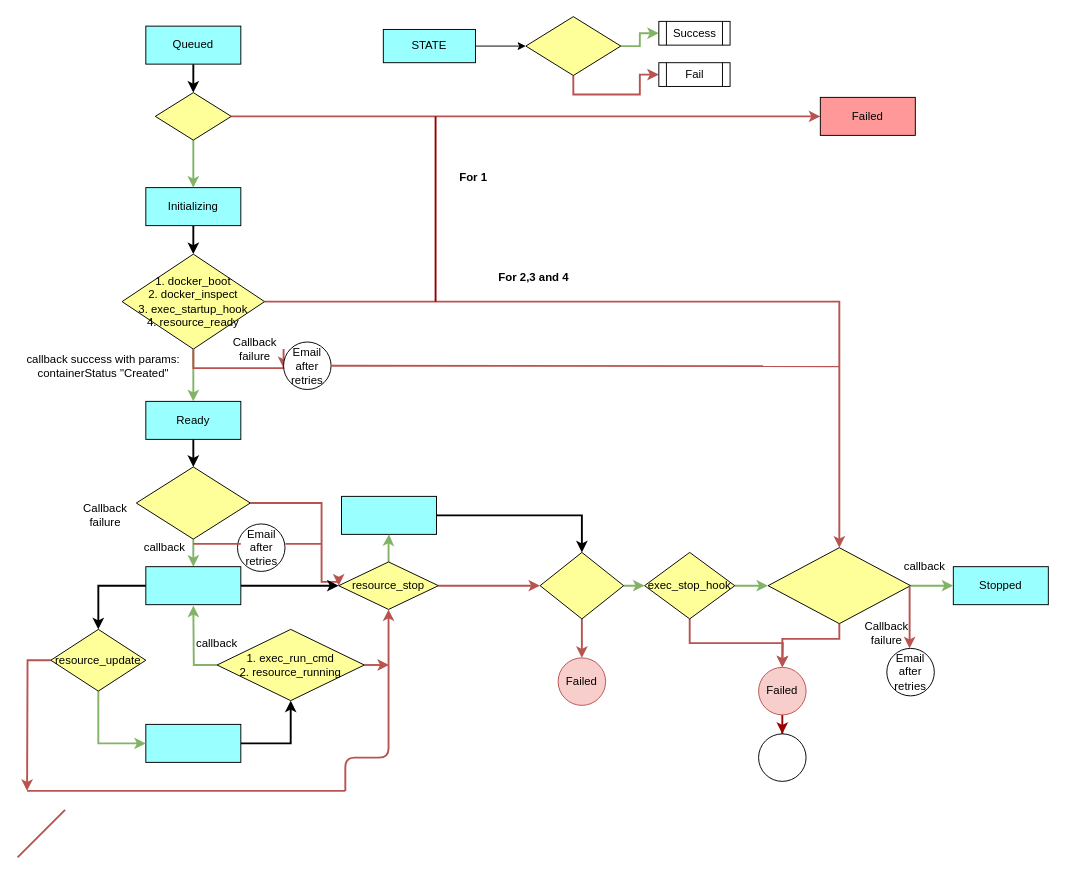
Image size: 1065x876. Some labels were removed from this diagram. The centre of each missing label's shape, as x and y in pixels:
"1. docker_service_rm 2. resource_stopped" goes at [839,585].
"1. exec_start_app 2. resource_running" goes at [192,502].
"docker_stop" goes at [581,585].
"Email trigger" goes at [782,757].
"Resource Operation(s)" goes at [573,46].
"resource_init" goes at [192,116].
"Running" goes at [193,585].
"Stopping" goes at [389,514].
"Updating" goes at [193,742].
